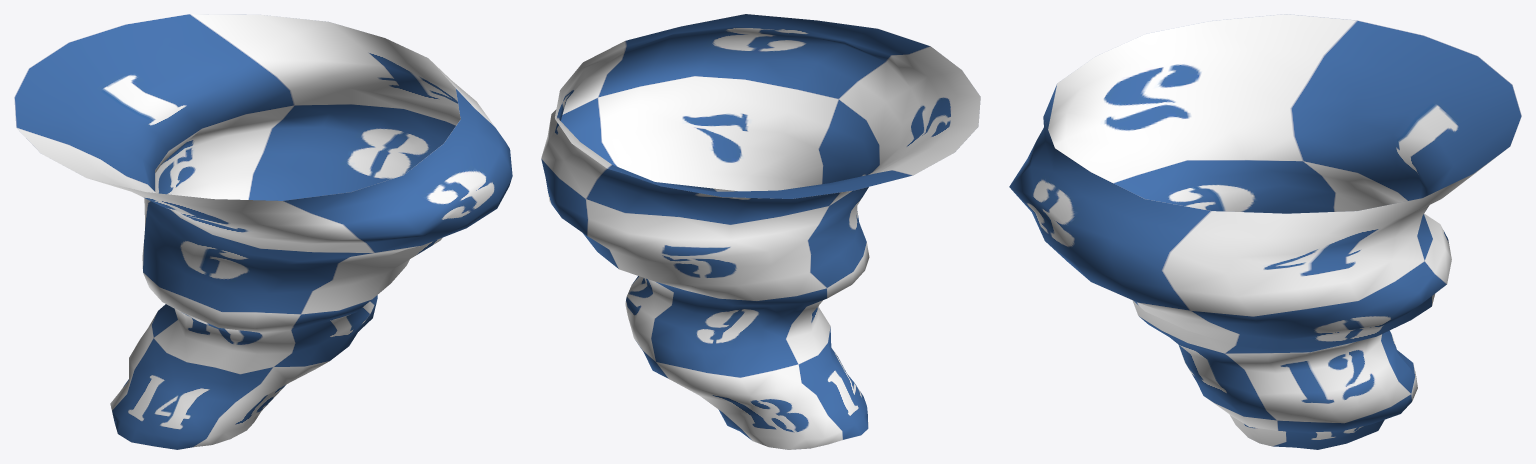
The model's file is Rengoku_Spl_Tornado.fbx.
3 renders of one model, left to right at view 1: azimuth 30°, elevation 25°; view 2: azimuth 150°, elevation 25°; view 3: azimuth 270°, elevation 25°, orthographic. The views are drawn at different scales.
Parts seen in each view (by area): view 1: Cylinder001; view 2: Cylinder001; view 3: Cylinder001.
Boxes of the visible parts, left/top/right/bottom form: Cylinder001: left=14, top=14, right=512, bottom=449; Cylinder001: left=541, top=14, right=980, bottom=449; Cylinder001: left=1009, top=14, right=1521, bottom=449.
Size of the model in its own units: 734 by 511 by 721.
